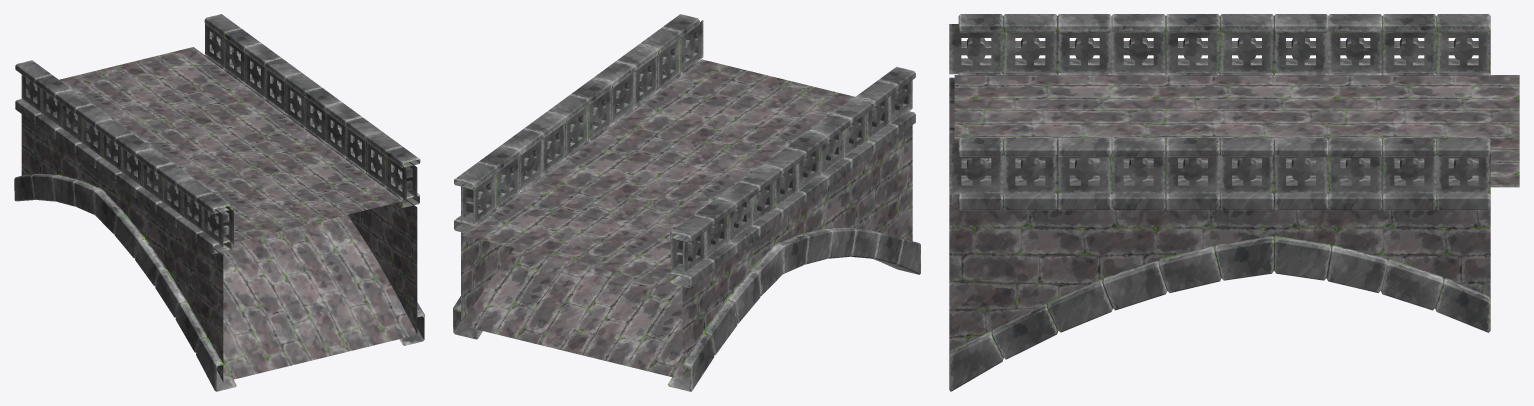
Rendered from bridge_seg_3.fbx.
3 renders of one model, left to right at view 1: azimuth 30°, elevation 25°; view 2: azimuth 150°, elevation 25°; view 3: azimuth 270°, elevation 25°, orthographic. The views are drawn at different scales.
Parts seen in each view (by area): view 1: bridge_seg_3; view 2: bridge_seg_3; view 3: bridge_seg_3.
Boxes of the visible parts, x1=… form: bridge_seg_3: x1=14, y1=14, x2=424, y2=391; bridge_seg_3: x1=453, y1=14, x2=920, y2=391; bridge_seg_3: x1=949, y1=14, x2=1519, y2=391.
Bounding box in the file's own units: 24.49 × 20.19 × 42.97.
